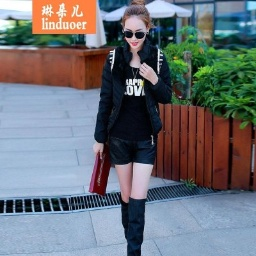face: (113, 2, 156, 59)
